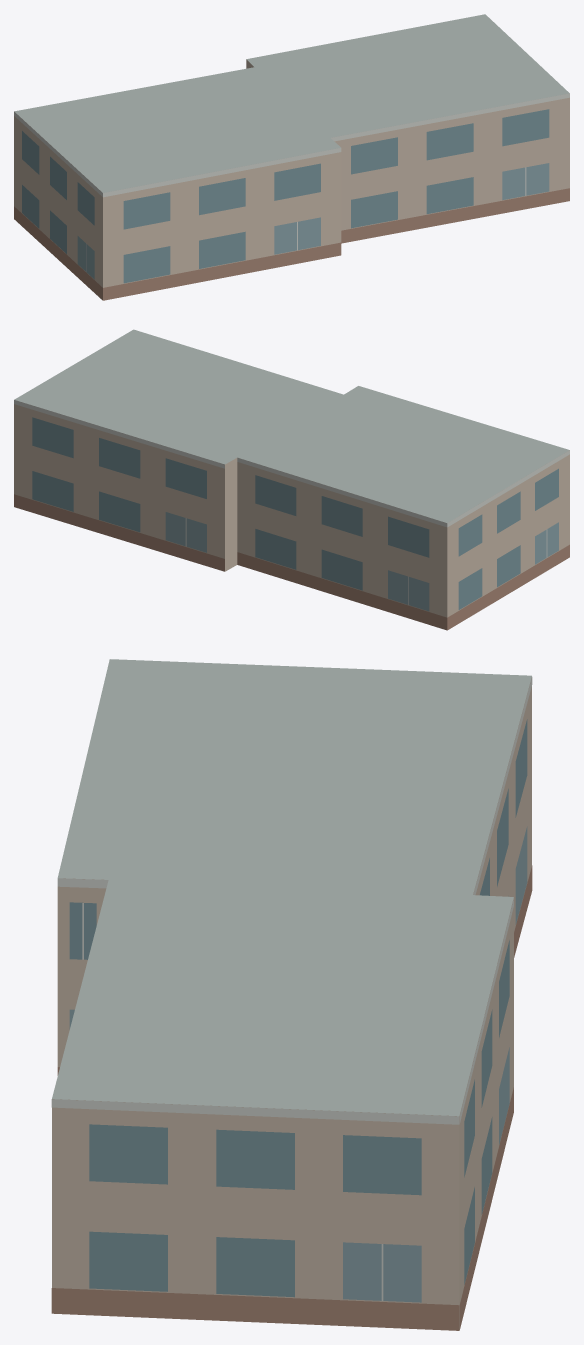
Rendered from survey-upis-32982263.glb.
3 views of the same model, one above another, from view 1: azimuth 30°, elevation 25°; view 2: azimuth 150°, elevation 25°; view 3: azimuth 270°, elevation 25° (orthographic). The views are drawn at different scales.
Visible parts, largest first — view 1: survey-upis-32982263.tmp; view 2: survey-upis-32982263.tmp; view 3: survey-upis-32982263.tmp.
Boxes of the visible parts, box(x1,y1,x2,y2) form: survey-upis-32982263.tmp: box(14, 14, 569, 300); survey-upis-32982263.tmp: box(14, 329, 569, 630); survey-upis-32982263.tmp: box(51, 659, 532, 1330).
Size of the model in its own units: 27.88 by 6.1 by 12.39.
